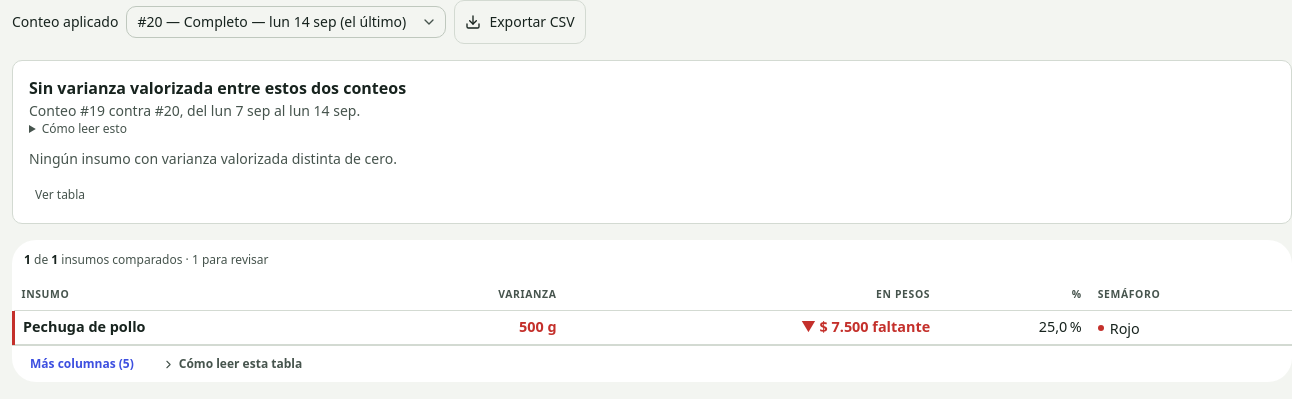
Test: VarianceTab — el semáforo lo calcula el servidor, nunca un umbral del cliente (SPEC-NEGOCIO §5.4) › las cantidades van en es-CO con su unidad: «12.500 g», no «12500 g»
The image size is (1292, 399).
Click the button "Más columnas (5)": x=82, y=364 [24,352,140,376]
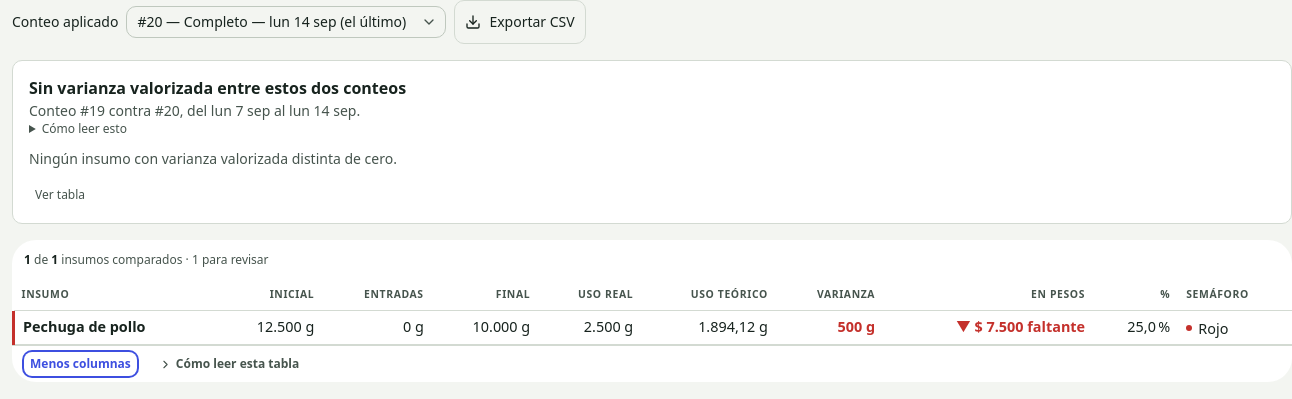
expect the text "12.500 g" is shown: met, box [216,310,322,344]
expect the text "1.894,12 g" is shown: met, box [641,310,776,344]
